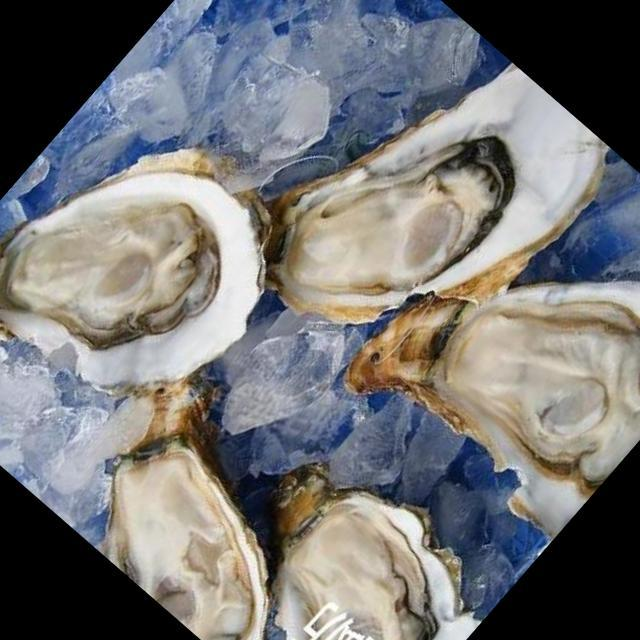Oyster-Open: (221, 0, 627, 414), (0, 71, 318, 493), (328, 140, 640, 560), (42, 353, 382, 640), (162, 423, 511, 640)
